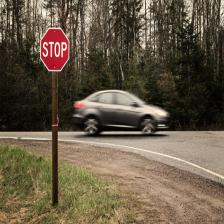Stop-sign: (37, 22, 74, 76)
